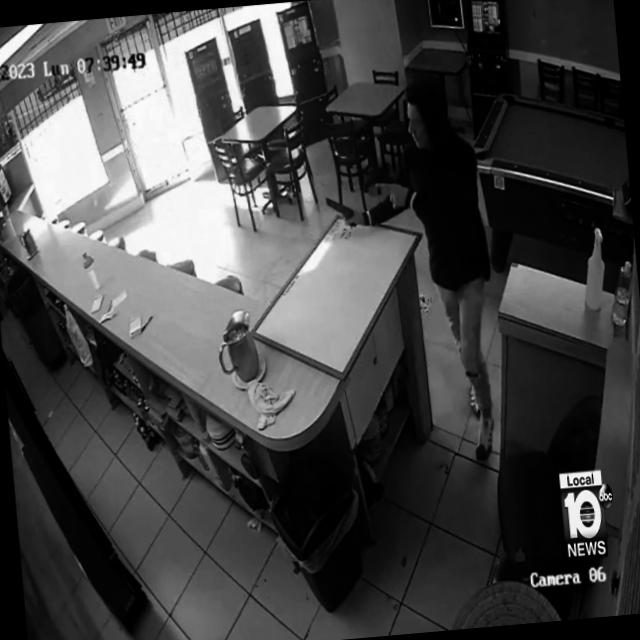gun: (324, 193, 357, 231)
person with a gun: (314, 70, 507, 475)
